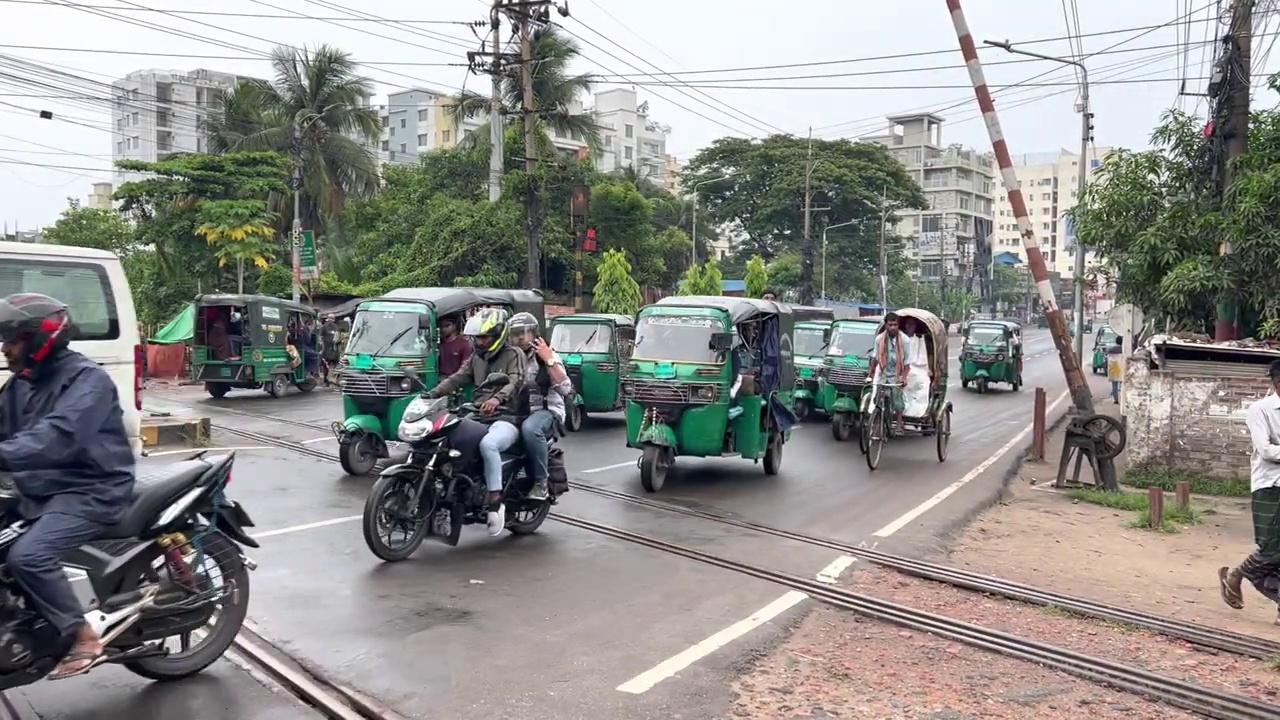Curb: (0, 447, 259, 688), (362, 372, 571, 562)
Fence: (0, 291, 136, 680), (418, 306, 527, 536), (1218, 359, 1279, 622), (506, 311, 573, 501), (866, 312, 910, 437)
Garbage: (944, 1, 1121, 491), (1207, 0, 1255, 342)
Railroad-crossing: (1061, 75, 1279, 344), (195, 41, 386, 301), (443, 13, 606, 291)
Rickshaw: (619, 293, 796, 492), (0, 238, 145, 461), (189, 292, 321, 398)
